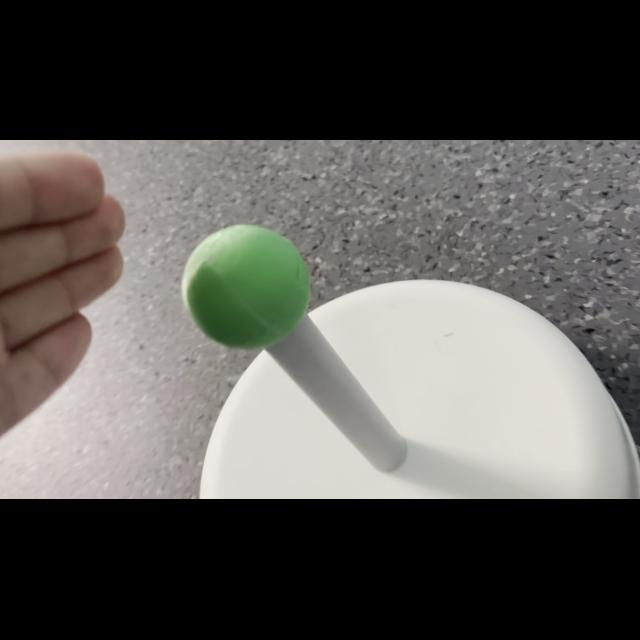objects: (178, 222, 316, 354)
